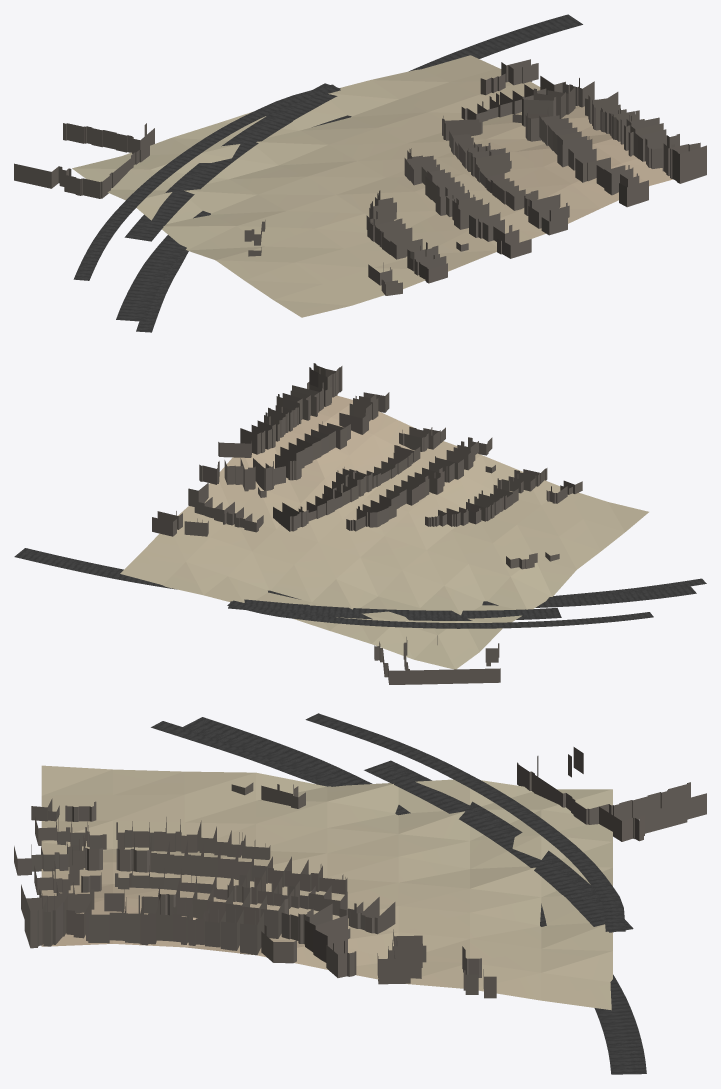
The model's file is tile_16_-1_lod1.gltf.
3 views of the same model, one above another, from view 1: azimuth 30°, elevation 25°; view 2: azimuth 150°, elevation 25°; view 3: azimuth 270°, elevation 25° (orthographic). The views are drawn at different scales.
Parts seen in each view (by area): view 1: Terrain_col, Buildings_col, Roads; view 2: Terrain_col, Buildings_col, Roads; view 3: Terrain_col, Buildings_col, Roads.
Part boxes in pixels (x1,y1,x2,y2): Terrain_col: [72, 55, 672, 317]; Buildings_col: [14, 59, 706, 295]; Roads: [73, 14, 582, 332]; Terrain_col: [120, 395, 648, 669]; Buildings_col: [152, 363, 582, 684]; Roads: [14, 548, 706, 628]; Terrain_col: [41, 765, 612, 1010]; Buildings_col: [14, 747, 706, 998]; Roads: [151, 713, 646, 1074].
Bounding box in the file's own units: 406 × 60.76 × 311.
3 materials, 1 textured.
